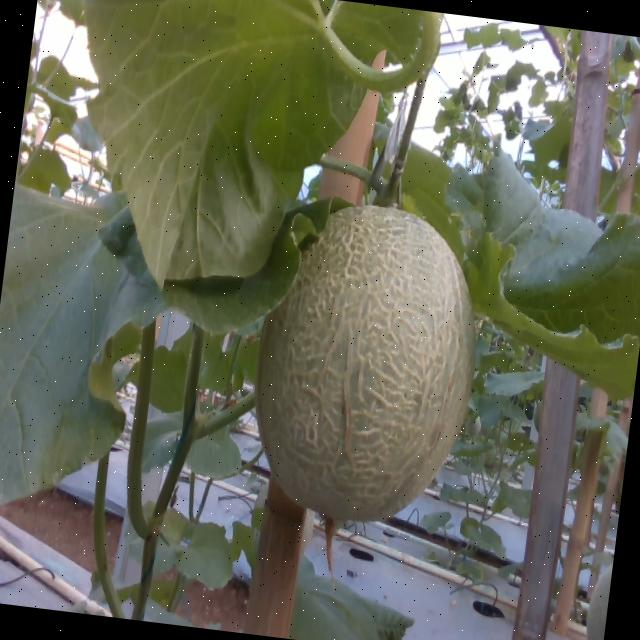melon: (257, 205, 475, 521)
